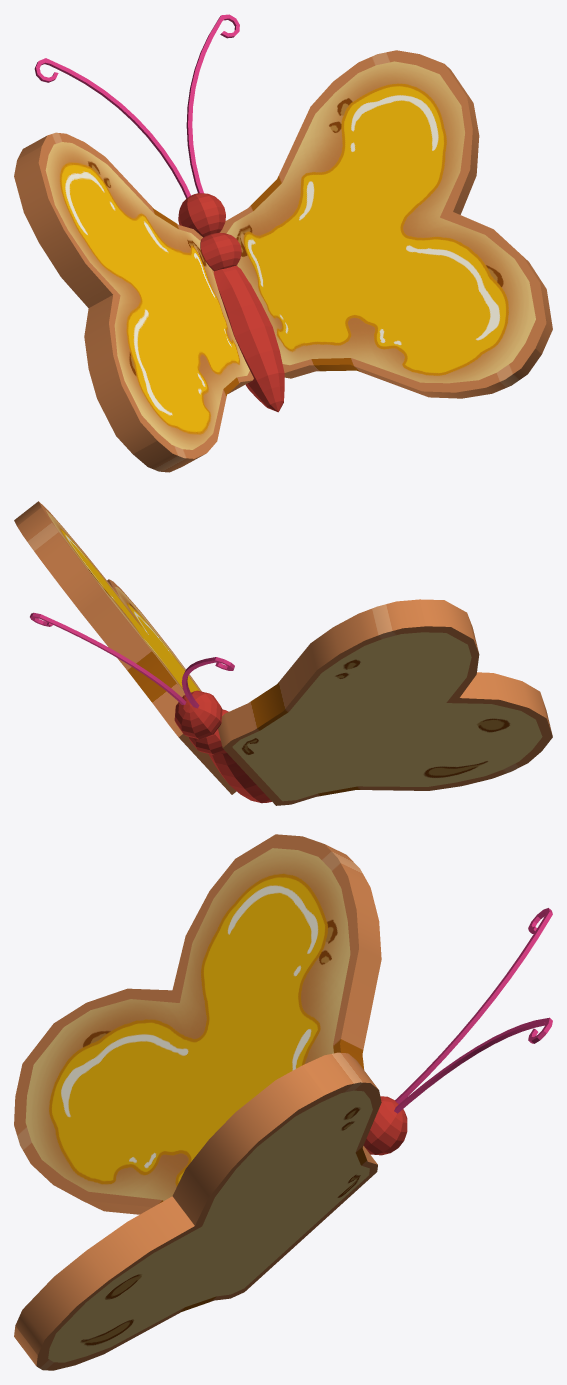
File: AliceFlowtObj.fbx
3 renders of one model, top to bottom at view 1: azimuth 30°, elevation 25°; view 2: azimuth 150°, elevation 25°; view 3: azimuth 270°, elevation 25°, orthographic. The views are drawn at different scales.
Parts seen in each view (by area): view 1: polySurface190; view 2: polySurface190; view 3: polySurface190.
Part boxes in pixels (left/top/right/bottom): polySurface190: left=14, top=14, right=552, bottom=472; polySurface190: left=14, top=501, right=552, bottom=805; polySurface190: left=14, top=834, right=552, bottom=1370.
Bounding box in the file's own units: 1.42 × 1.19 × 0.8438.
Materials: 5 (5 with a texture image).
